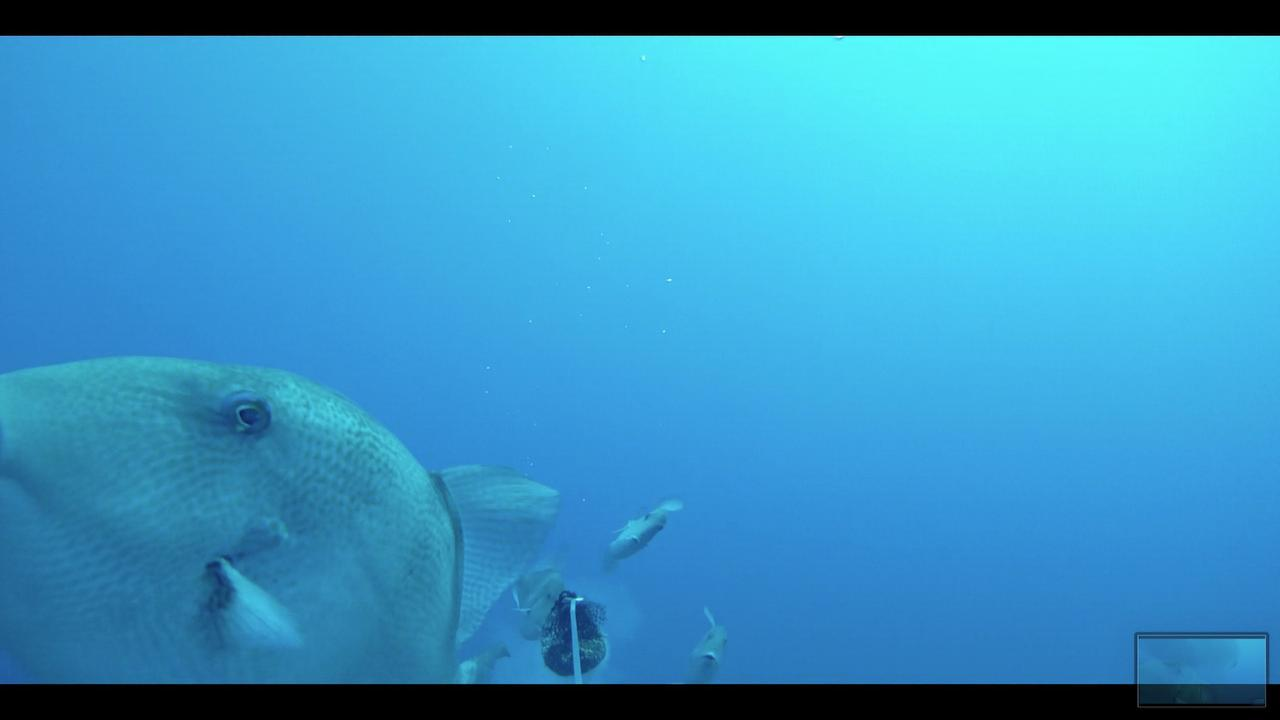balistes: (601, 487, 688, 576), (674, 602, 731, 676)
